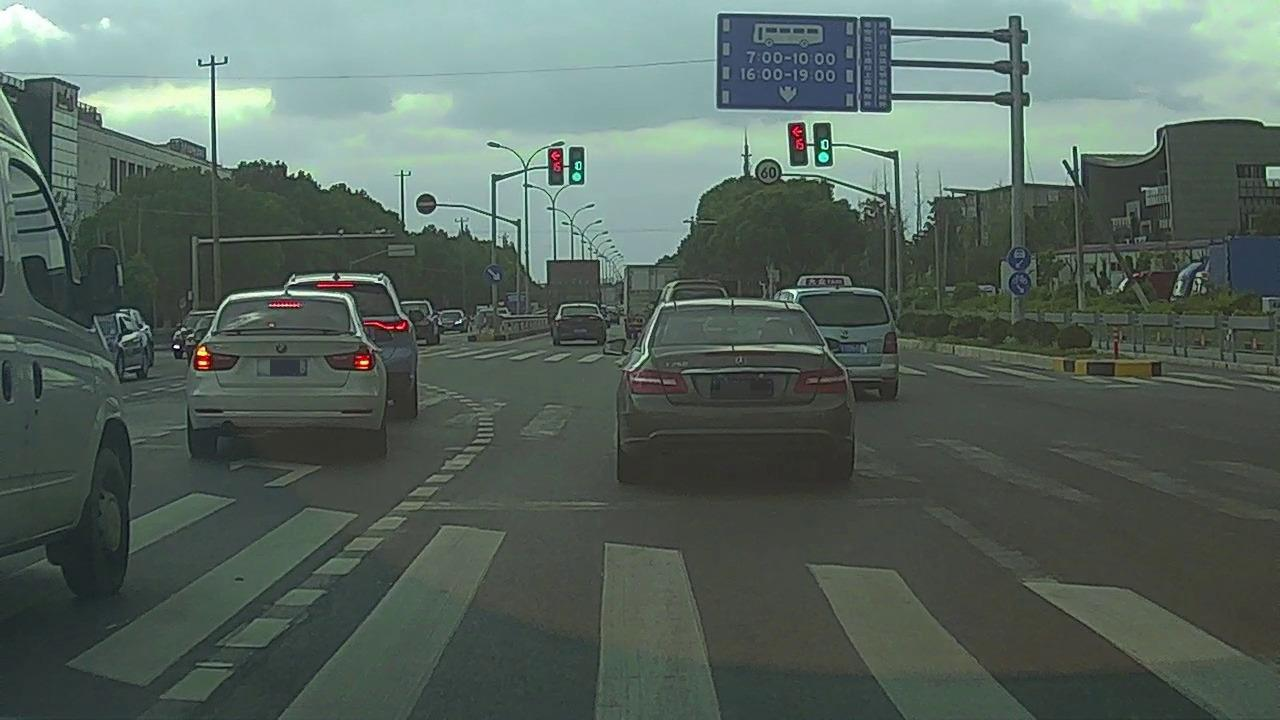traffic_light: (787, 123, 808, 166), (812, 123, 832, 168), (568, 147, 585, 185), (547, 148, 563, 186)
